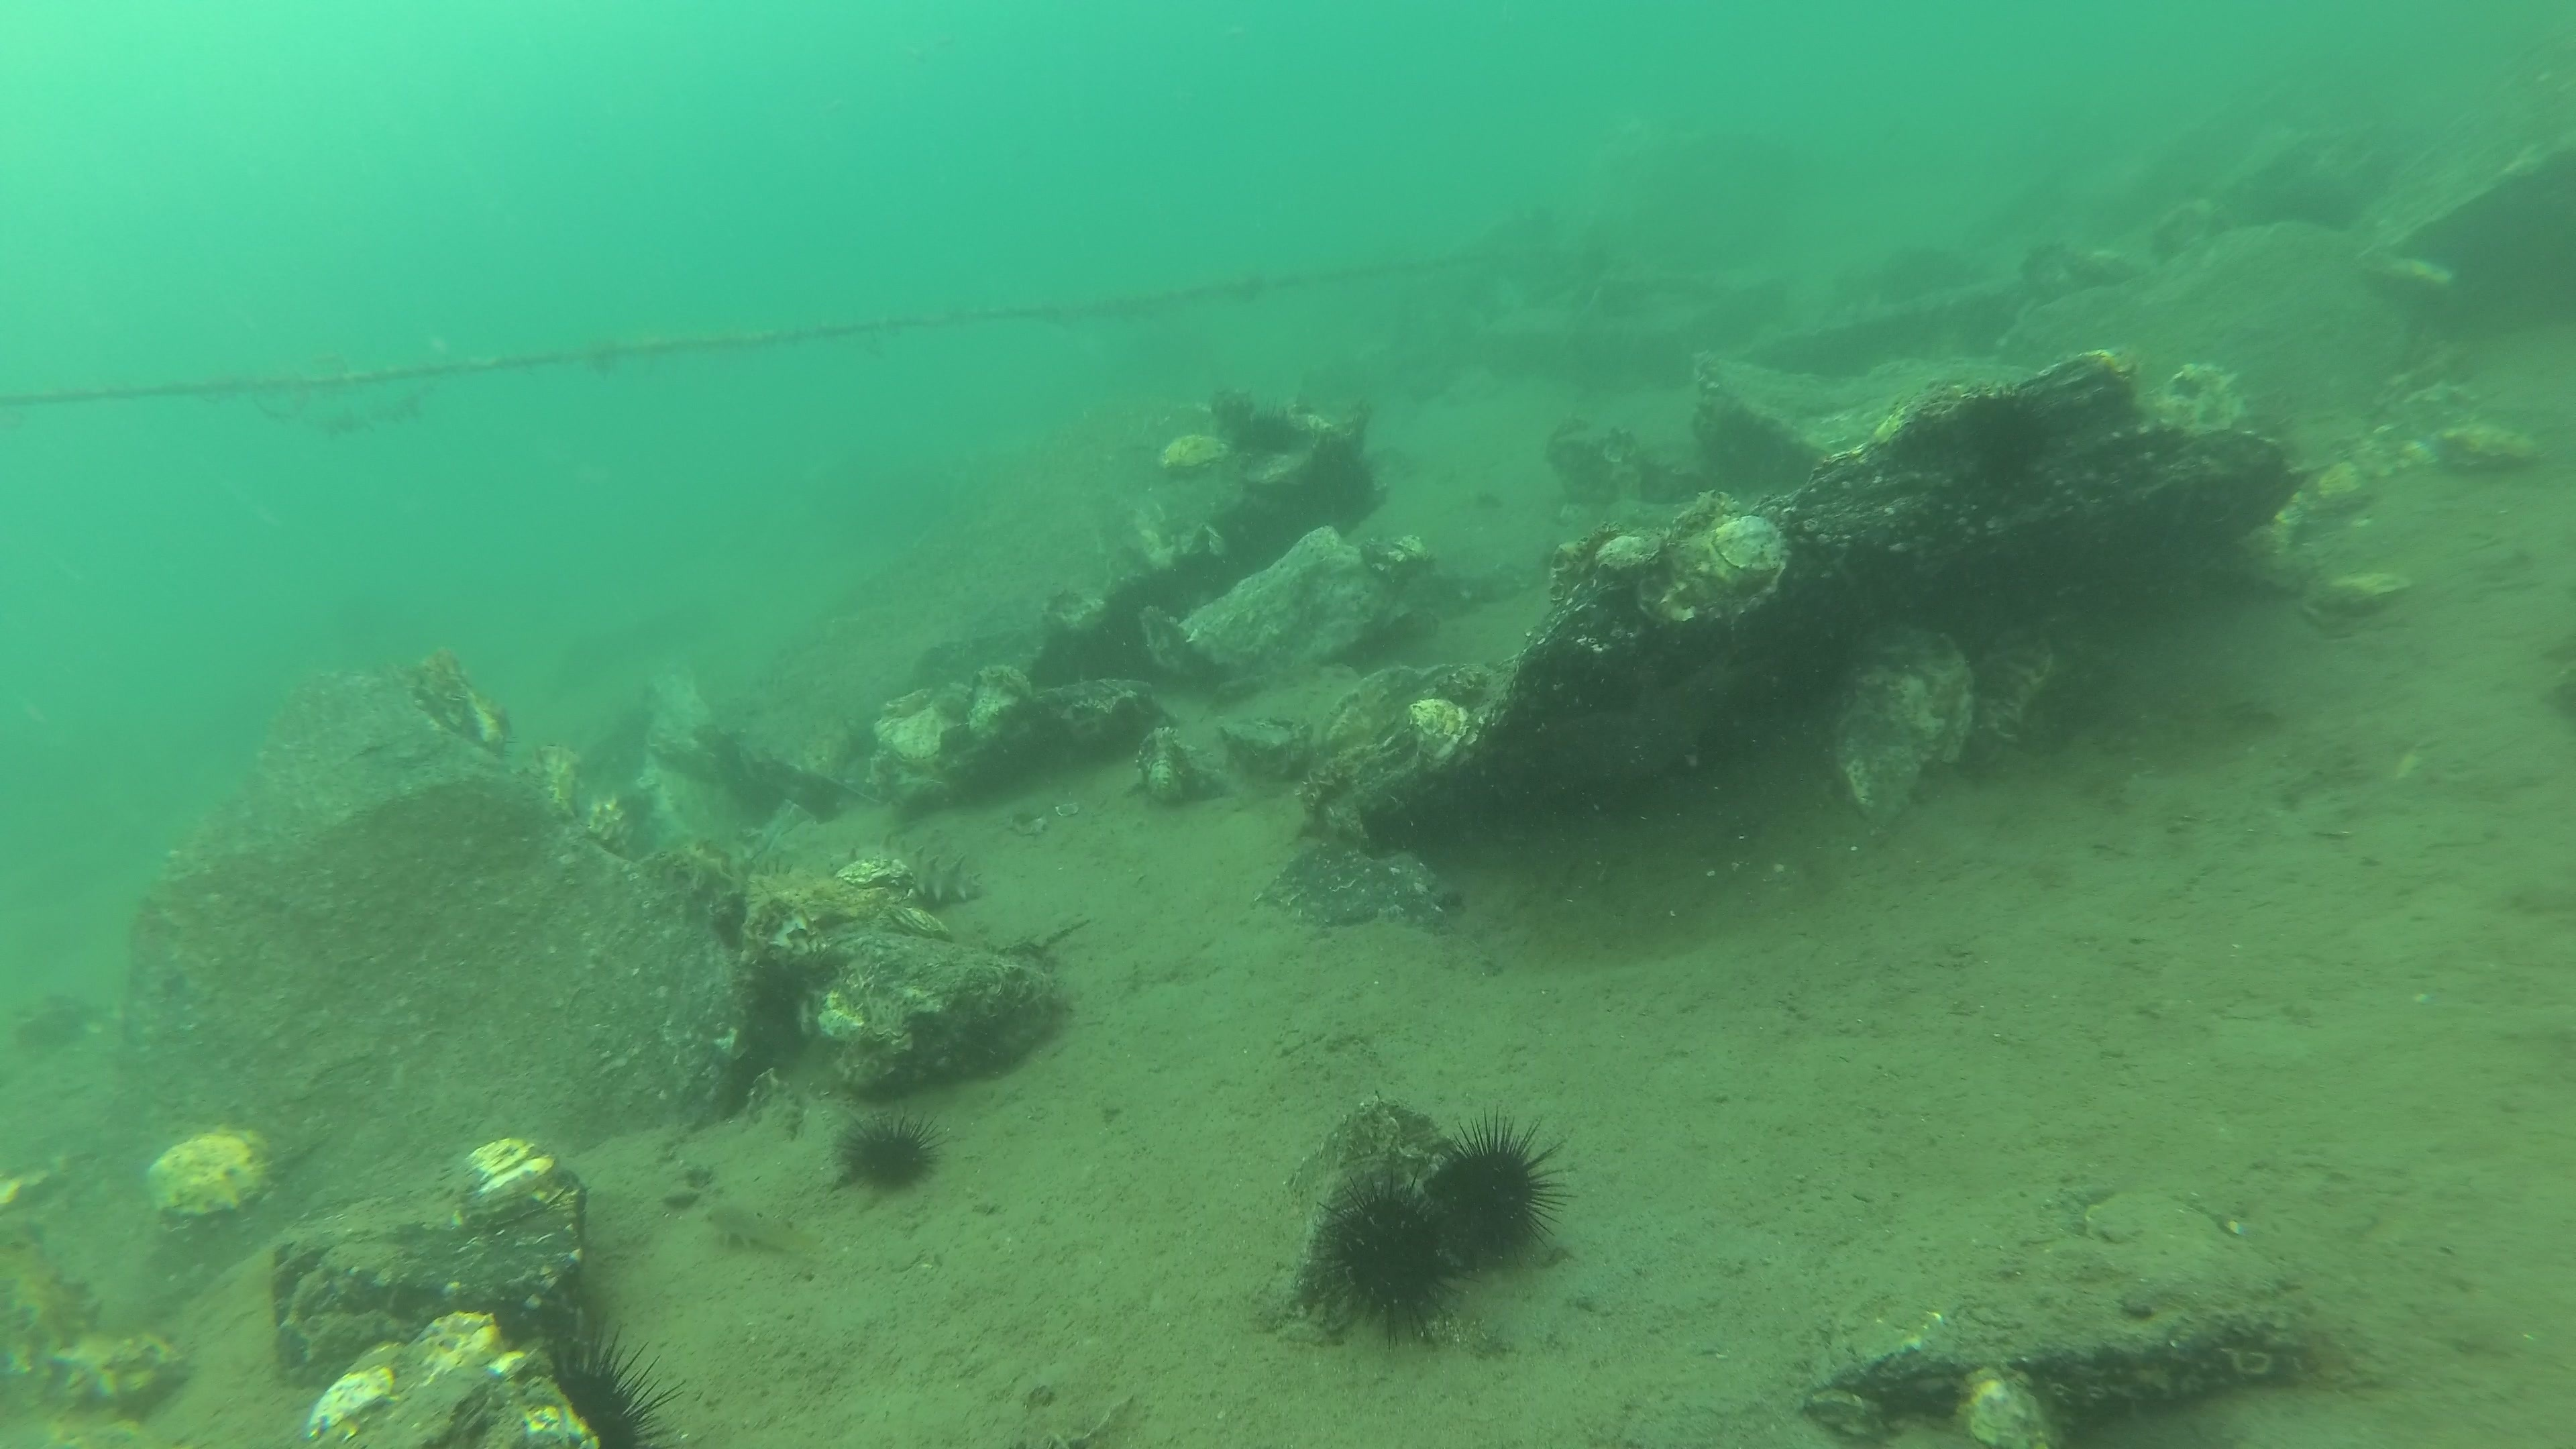echinus: (1300, 1162, 1484, 1355), (1440, 1102, 1576, 1272), (545, 1318, 692, 1449), (823, 1106, 952, 1194), (1966, 380, 2047, 490), (1235, 398, 1295, 455), (1339, 458, 1376, 513)
holothurian: (824, 830, 987, 906)
starfish: (1539, 639, 1775, 803)
